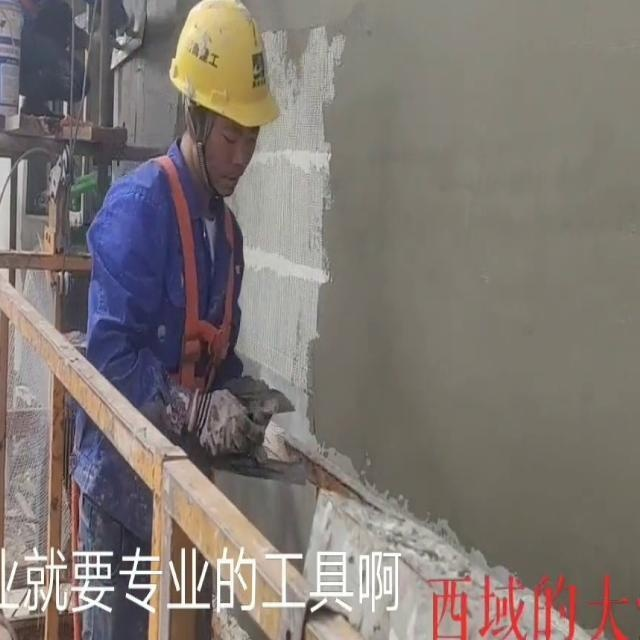Arnes_seguridad: (134, 145, 244, 399)
